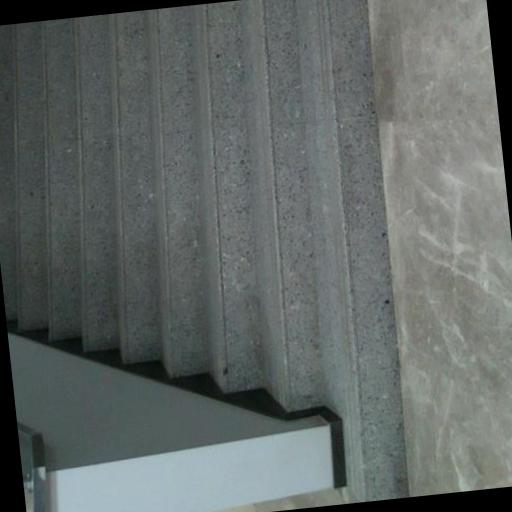stairs: (0, 0, 406, 501)
